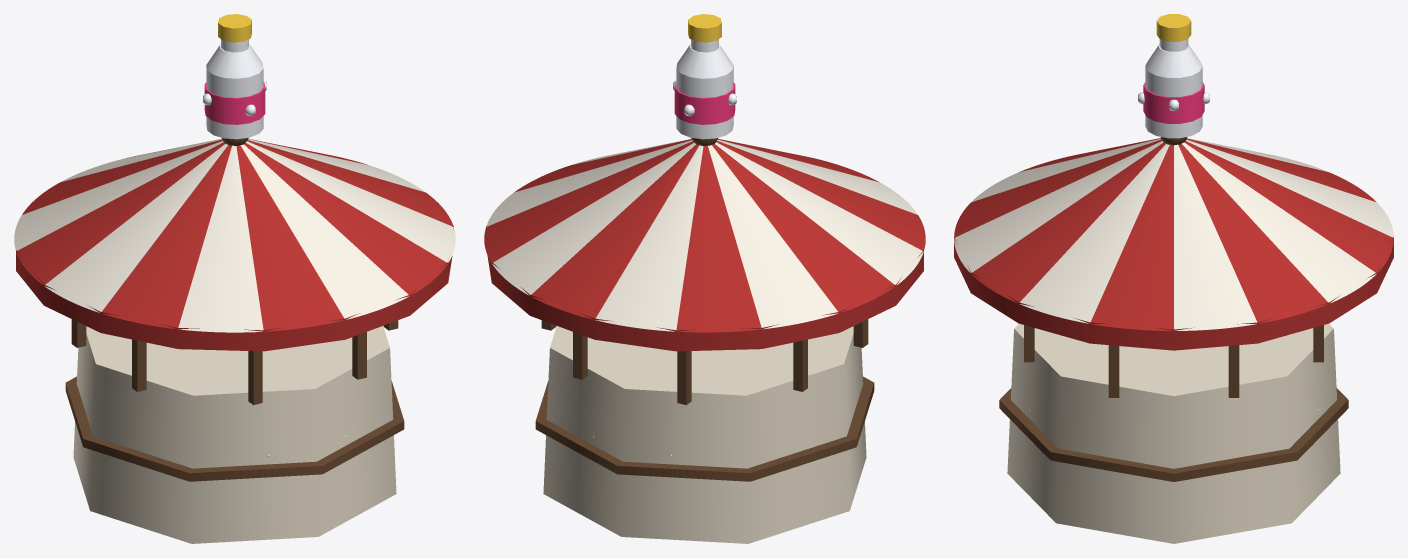
Rendered from kiosk.glb.
The picture shows the model from 3 angles, left to right: view 1: azimuth 30°, elevation 25°; view 2: azimuth 150°, elevation 25°; view 3: azimuth 270°, elevation 25°; orthographic projection.
Bounding box in the file's own units: 6.6 × 7.5 × 6.6.
